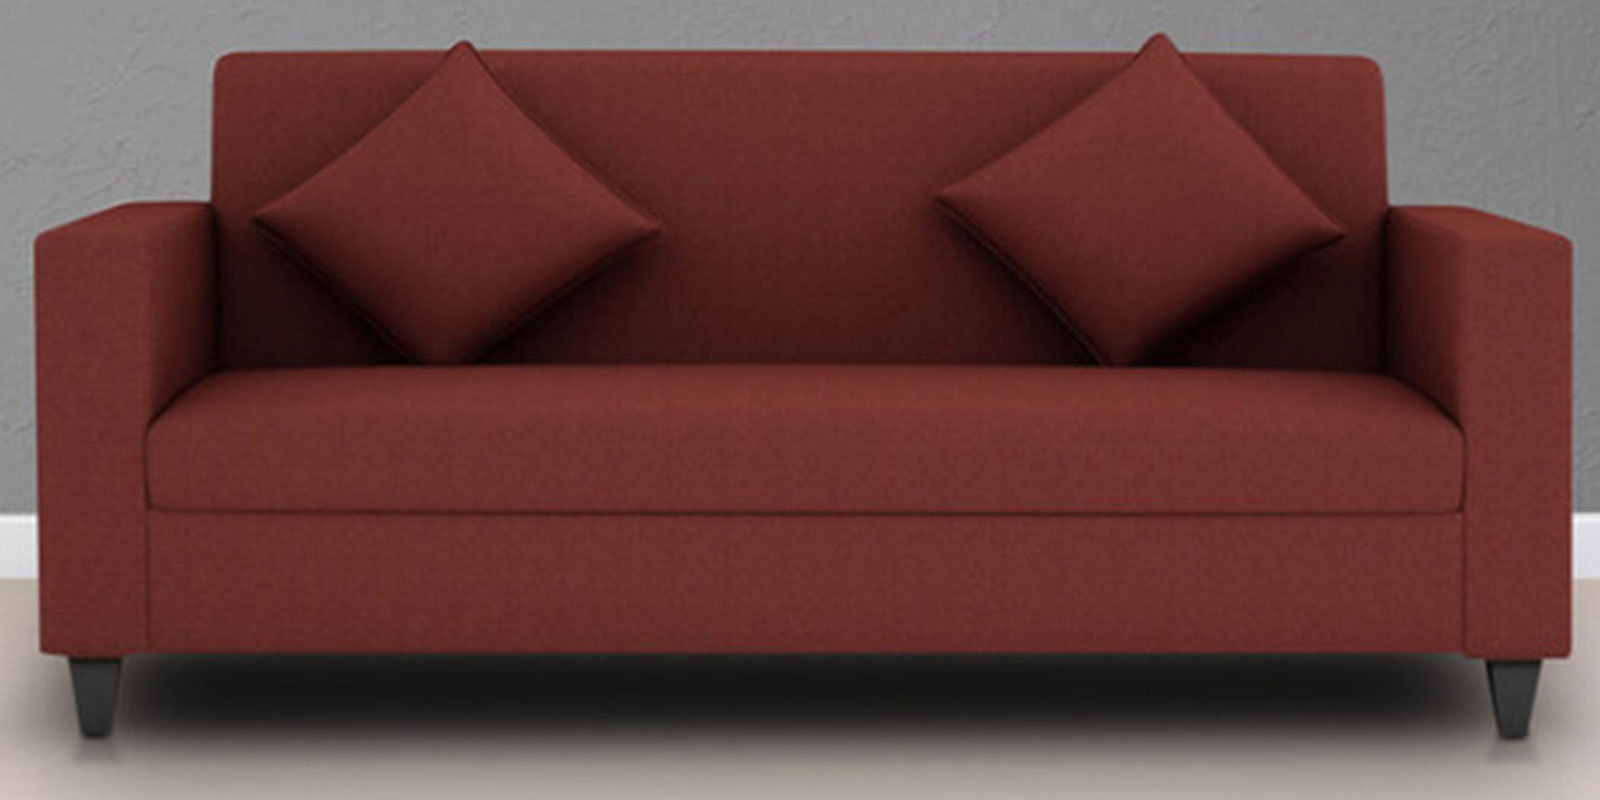Cooper Three Seater Sofa in Cherry Colour by ARRA: (23, 40, 1589, 776)
